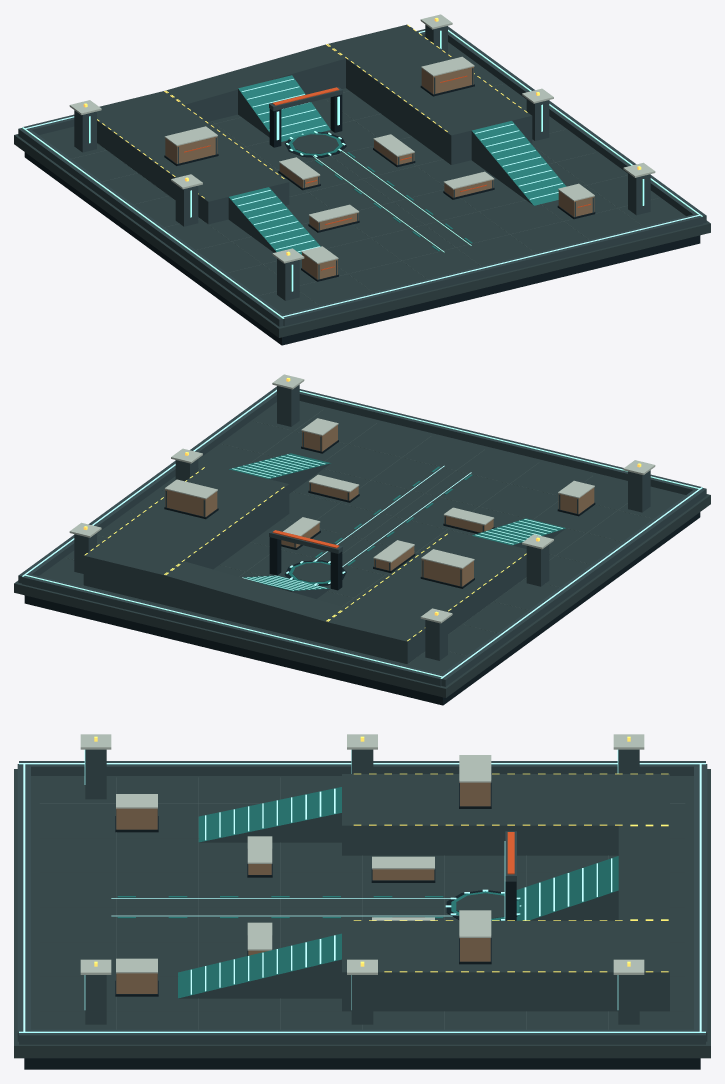
File: relay-zero-raised-courtyard-v1.glb
3 views of the same model, one above another, from view 1: azimuth 30°, elevation 25°; view 2: azimuth 150°, elevation 25°; view 3: azimuth 270°, elevation 25° (orthographic). The views are drawn at different scales.
Visible parts, largest first — view 1: Baked surface palette 1, Baked surface palette 3, Baked surface palette 5, Baked surface palette 2, Baked surface palette 9, Baked surface palette 6, Baked surface palette 8, Baked surface palette 7, Baked surface palette 4, Baked surface palette 10; view 2: Baked surface palette 1, Baked surface palette 3, Baked surface palette 2, Baked surface palette 9, Baked surface palette 6, Baked surface palette 8, Baked surface palette 5, Baked surface palette 7, Baked surface palette 4; view 3: Baked surface palette 1, Baked surface palette 3, Baked surface palette 5, Baked surface palette 2, Baked surface palette 9, Baked surface palette 6, Baked surface palette 8, Baked surface palette 7, Baked surface palette 4.
Part boxes in pixels (bbox=[...]): Baked surface palette 1: bbox=[14, 24, 710, 337]; Baked surface palette 3: bbox=[18, 24, 706, 326]; Baked surface palette 5: bbox=[229, 75, 566, 254]; Baked surface palette 2: bbox=[24, 84, 700, 345]; Baked surface palette 9: bbox=[69, 14, 655, 263]; Baked surface palette 6: bbox=[22, 29, 702, 318]; Baked surface palette 8: bbox=[165, 66, 594, 279]; Baked surface palette 7: bbox=[71, 61, 657, 305]; Baked surface palette 4: bbox=[83, 18, 641, 255]; Baked surface palette 10: bbox=[184, 75, 590, 270]; Baked surface palette 1: bbox=[14, 401, 710, 697]; Baked surface palette 3: bbox=[18, 384, 706, 686]; Baked surface palette 2: bbox=[24, 440, 700, 705]; Baked surface palette 9: bbox=[69, 374, 655, 623]; Baked surface palette 6: bbox=[22, 389, 702, 678]; Baked surface palette 8: bbox=[165, 425, 594, 586]; Baked surface palette 5: bbox=[229, 453, 565, 590]; Baked surface palette 7: bbox=[67, 410, 653, 665]; Baked surface palette 4: bbox=[83, 378, 641, 641]; Baked surface palette 1: bbox=[14, 769, 710, 1058]; Baked surface palette 3: bbox=[17, 749, 707, 1044]; Baked surface palette 5: bbox=[117, 787, 618, 998]; Baked surface palette 2: bbox=[24, 780, 700, 1069]; Baked surface palette 9: bbox=[80, 734, 644, 974]; Baked surface palette 6: bbox=[19, 750, 705, 1032]; Baked surface palette 8: bbox=[116, 782, 490, 993]; Baked surface palette 7: bbox=[40, 777, 684, 1029]; Baked surface palette 4: bbox=[94, 736, 668, 972].
Bounding box in the file's own units: 64 × 10.14 × 68.
